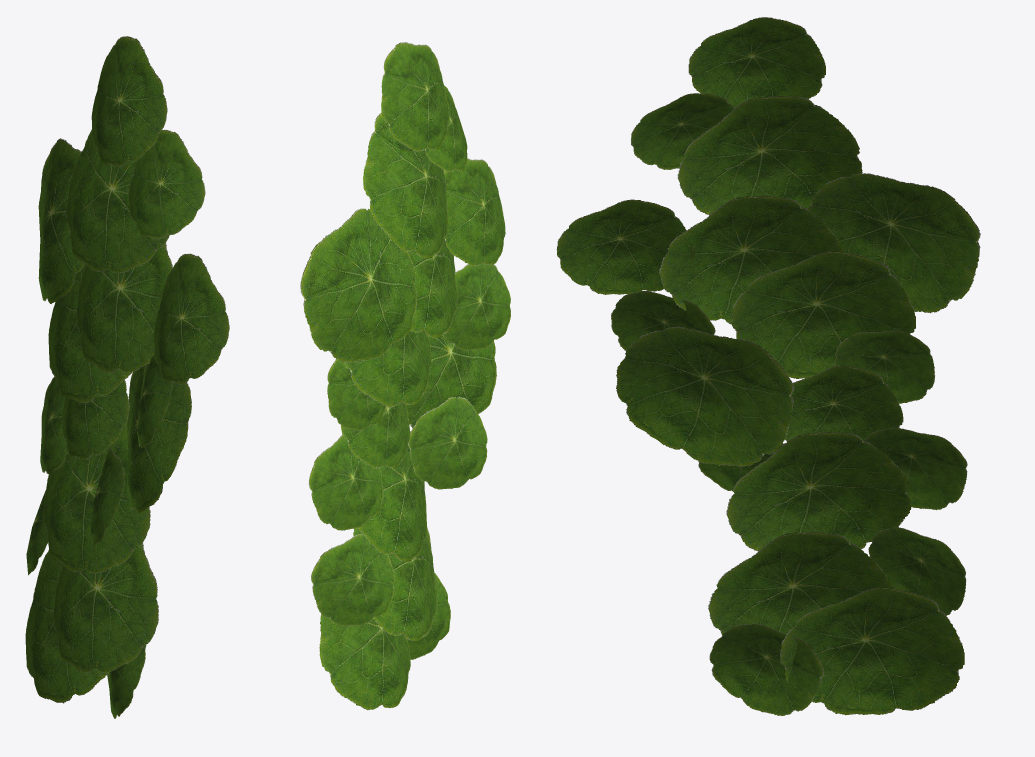
Rendered from vinewall2.fbx.
3 views of the same model, side by side, from view 1: azimuth 30°, elevation 25°; view 2: azimuth 150°, elevation 25°; view 3: azimuth 270°, elevation 25° (orthographic). The views are drawn at different scales.
Parts seen in each view (by area): view 1: Plane.009; view 2: Plane.009; view 3: Plane.009.
Boxes of the visible parts, x1,y1,x2,y2 form: Plane.009: (25, 36, 229, 718); Plane.009: (300, 42, 510, 710); Plane.009: (556, 17, 980, 715).
Size of the model in its own units: 22.21 by 171 by 97.92.
